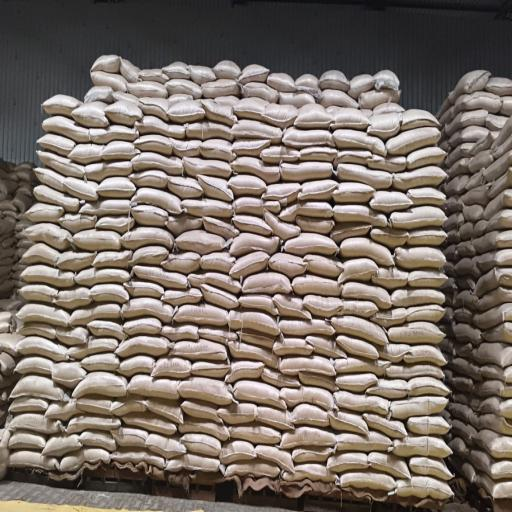Rice-bag-10: (389, 396, 450, 435), (467, 447, 512, 480), (448, 69, 490, 103), (386, 128, 440, 154), (393, 166, 446, 190), (37, 151, 84, 178), (391, 206, 446, 229), (26, 223, 72, 250), (43, 116, 90, 142), (34, 185, 79, 212), (388, 322, 443, 343), (475, 267, 512, 298), (22, 265, 74, 287), (18, 304, 69, 326), (447, 109, 488, 136), (454, 91, 502, 114), (395, 247, 445, 269), (476, 429, 512, 458), (474, 303, 512, 329), (391, 288, 444, 306), (42, 94, 83, 117), (294, 105, 333, 129), (72, 102, 109, 127), (367, 113, 401, 140), (167, 100, 205, 124), (475, 343, 512, 367), (105, 101, 142, 125), (404, 345, 446, 366), (472, 413, 512, 435), (484, 189, 512, 220), (407, 147, 446, 169), (23, 243, 60, 266), (386, 364, 442, 379), (475, 230, 512, 252), (38, 134, 75, 156), (477, 476, 512, 499), (27, 202, 64, 223), (477, 288, 512, 310), (20, 284, 58, 304), (450, 126, 489, 145), (402, 110, 439, 130), (91, 71, 127, 91), (35, 167, 65, 191), (490, 167, 512, 199), (406, 305, 445, 323), (409, 378, 448, 396), (479, 249, 512, 270), (139, 97, 169, 120), (476, 379, 512, 398), (478, 396, 512, 416), (408, 188, 445, 206), (492, 117, 512, 150), (408, 228, 446, 245), (480, 364, 512, 384), (408, 271, 447, 287), (447, 142, 474, 165), (483, 322, 512, 343), (469, 149, 494, 173), (239, 64, 269, 84), (462, 185, 490, 206), (486, 210, 512, 231), (485, 77, 512, 96), (214, 60, 241, 79), (91, 55, 120, 72), (189, 66, 216, 84), (446, 175, 469, 194), (448, 159, 470, 178), (486, 113, 508, 130), (500, 96, 512, 116), (494, 149, 504, 157)
